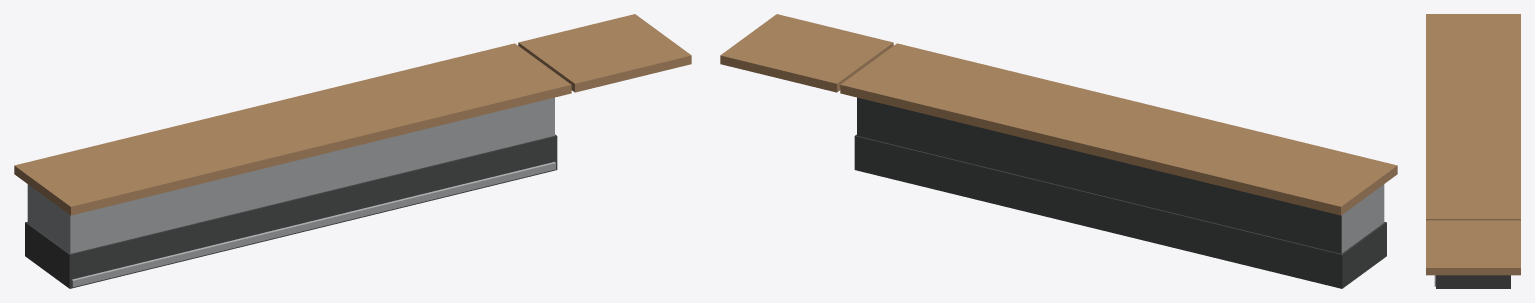
Rendered from SM_counter_ramenshop.fbx.
3 renders of one model, left to right at view 1: azimuth 30°, elevation 25°; view 2: azimuth 150°, elevation 25°; view 3: azimuth 270°, elevation 25°, orthographic. The views are drawn at different scales.
Visible parts, largest first — view 1: Box163; view 2: Box163; view 3: Box163.
Part boxes in pixels (left/top/right/bottom): Box163: left=14, top=14, right=691, bottom=288; Box163: left=720, top=14, right=1397, bottom=288; Box163: left=1426, top=14, right=1520, bottom=288.
Bounding box in the file's own units: 308 × 48.7 × 41.6.
